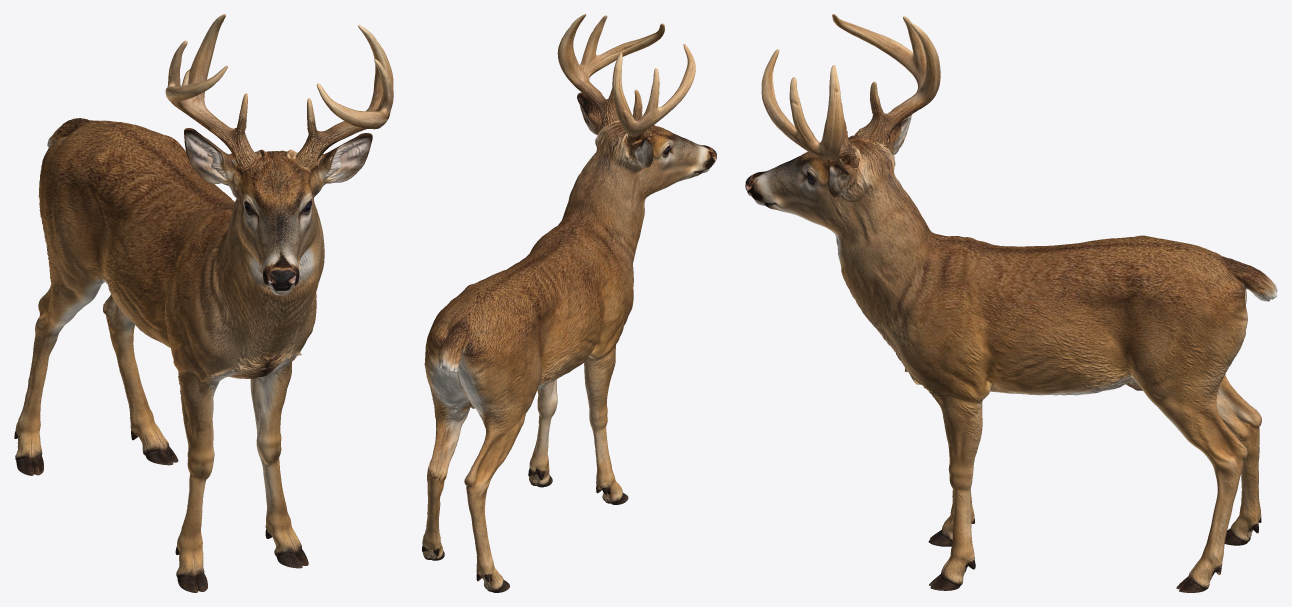
File: CC0_Deer_Grab3D.glb
The picture shows the model from 3 angles, left to right: view 1: azimuth 30°, elevation 25°; view 2: azimuth 150°, elevation 25°; view 3: azimuth 270°, elevation 25°; orthographic projection. The views are drawn at different scales.
Visible parts, largest first — view 1: deer; view 2: deer; view 3: deer.
Part boxes in pixels (x1=…): deer: x1=14, y1=14, x2=393, y2=592; deer: x1=422, y1=14, x2=716, y2=592; deer: x1=745, y1=14, x2=1277, y2=592.
Size of the model in its own units: 0.5911 by 1.7 by 1.56.
1 material, 1 textured.
